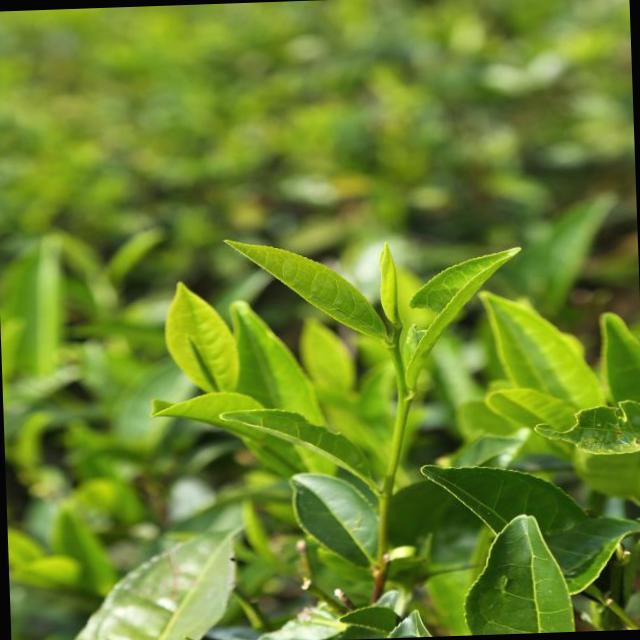Stem: (398, 389, 413, 404)
